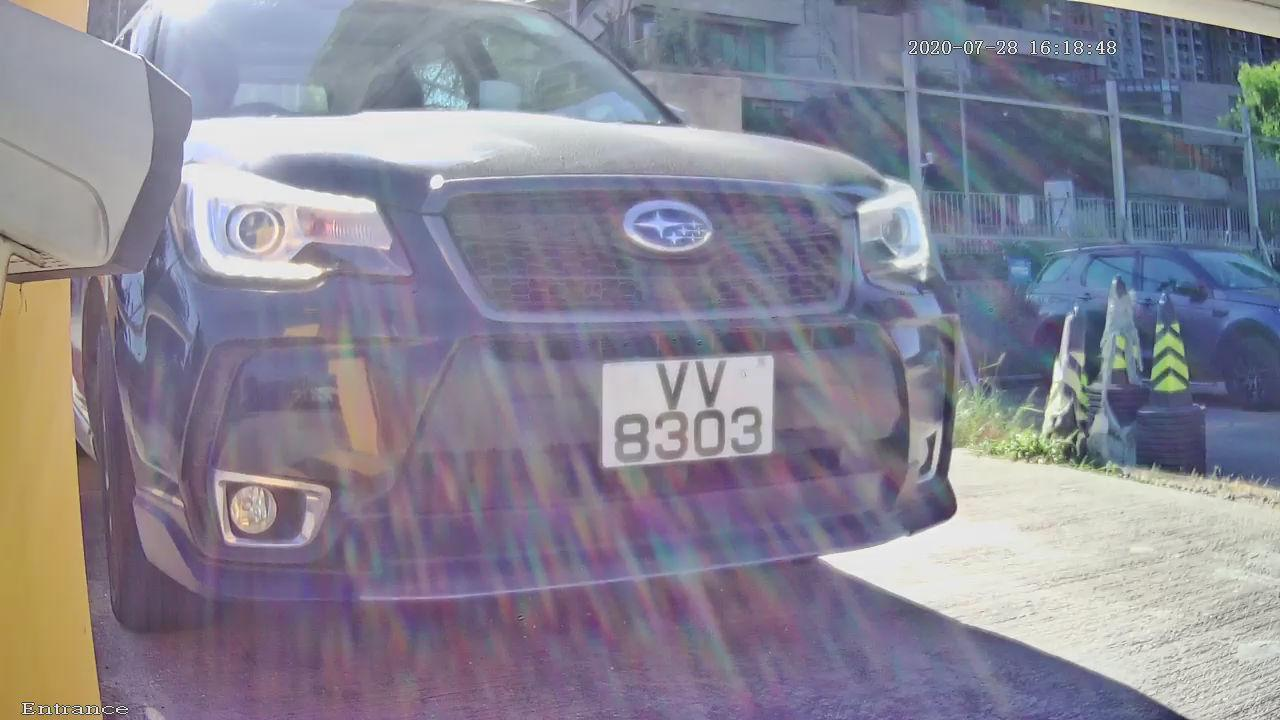privatecar: (46, 10, 1098, 708)
